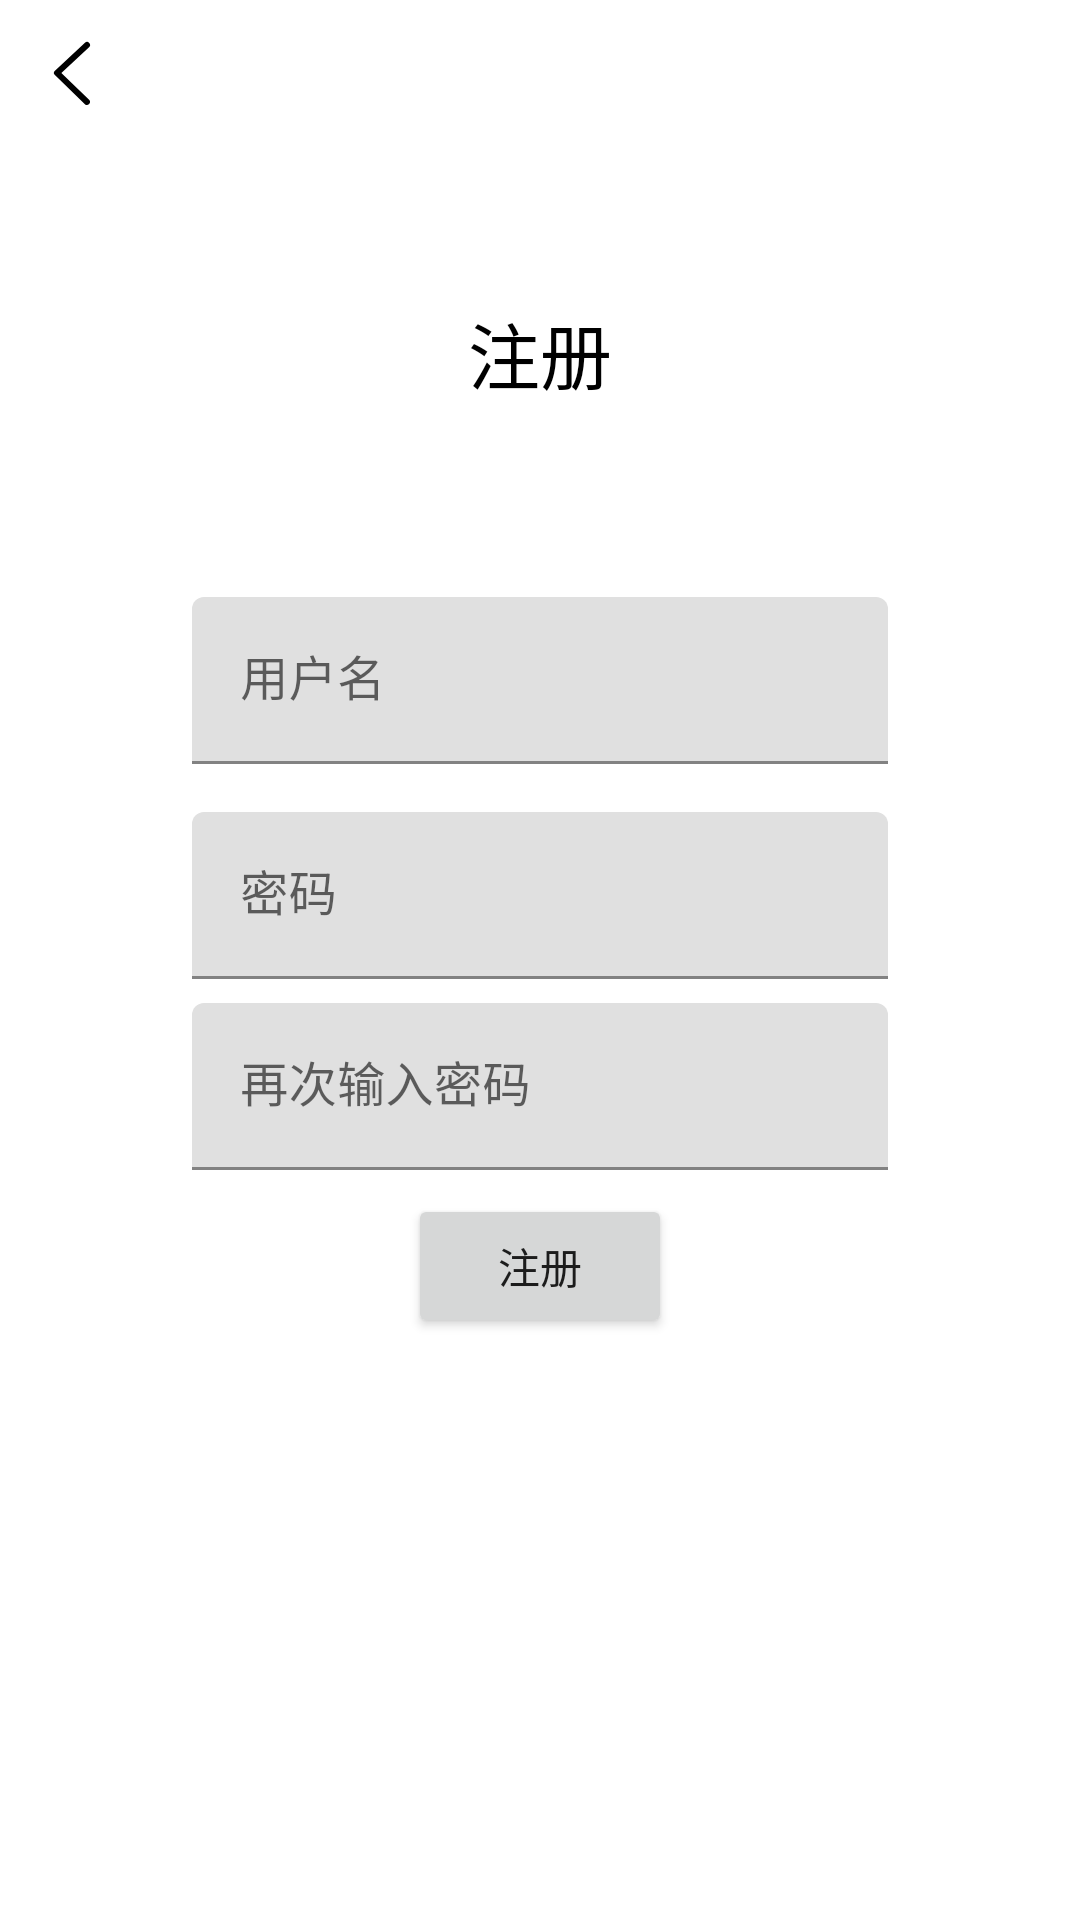

Point at icon controls on the screen. Image size 1080*1920, points as (x=x, y=y).
return: (x=72, y=73)
